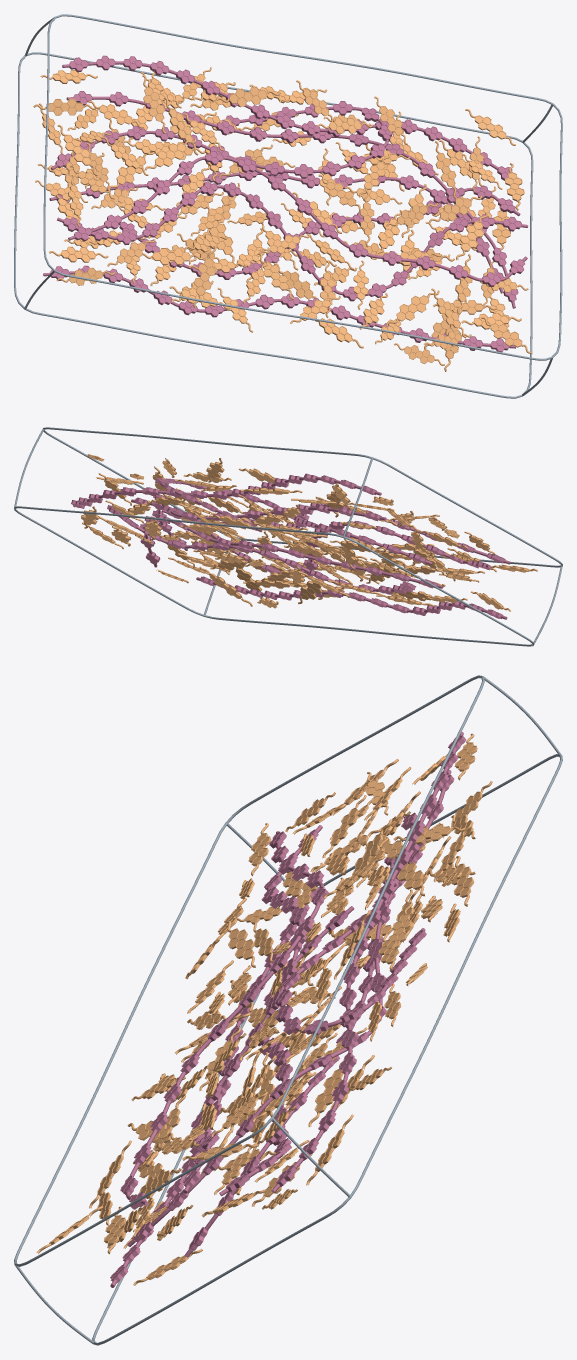
Rendered from PDINN_NDI_PowerPoint_Matte_Boundary_Copy.glb.
3 views of the same model, one above another, from view 1: azimuth 30°, elevation 25°; view 2: azimuth 150°, elevation 25°; view 3: azimuth 270°, elevation 25° (orthographic). The views are drawn at different scales.
Parts seen in each view (by area): view 1: PDINN_135_Molecules, NDI_141_Cores_8_Chains, Rounded_Matrix_Matte_Boundary; view 2: PDINN_135_Molecules, NDI_141_Cores_8_Chains, Rounded_Matrix_Matte_Boundary; view 3: PDINN_135_Molecules, NDI_141_Cores_8_Chains, Rounded_Matrix_Matte_Boundary.
Boxes of the visible parts, x1=… form: PDINN_135_Molecules: x1=33, y1=67, x2=531, y2=371; NDI_141_Cores_8_Chains: x1=43, y1=55, x2=528, y2=352; Rounded_Matrix_Matte_Boundary: x1=14, y1=14, x2=562, y2=398; PDINN_135_Molecules: x1=81, y1=454, x2=537, y2=611; NDI_141_Cores_8_Chains: x1=71, y1=473, x2=510, y2=619; Rounded_Matrix_Matte_Boundary: x1=14, y1=427, x2=562, y2=646; PDINN_135_Molecules: x1=36, y1=733, x2=492, y2=1285; NDI_141_Cores_8_Chains: x1=110, y1=732, x2=465, y2=1287; Rounded_Matrix_Matte_Boundary: x1=14, y1=675, x2=562, y2=1345.
Size of the model in its own units: 13.45 by 8.59 by 9.22.
